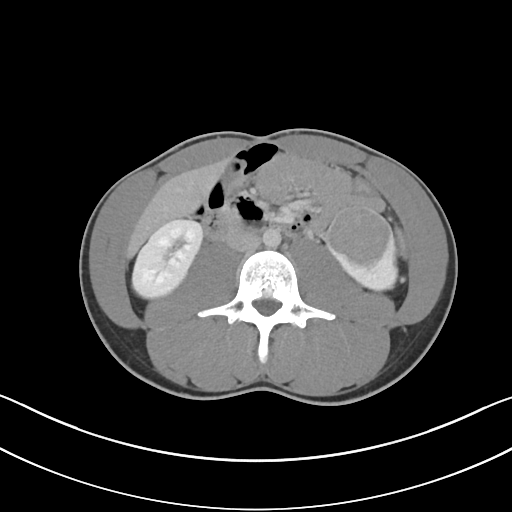Lesion: (328, 206, 393, 269)
